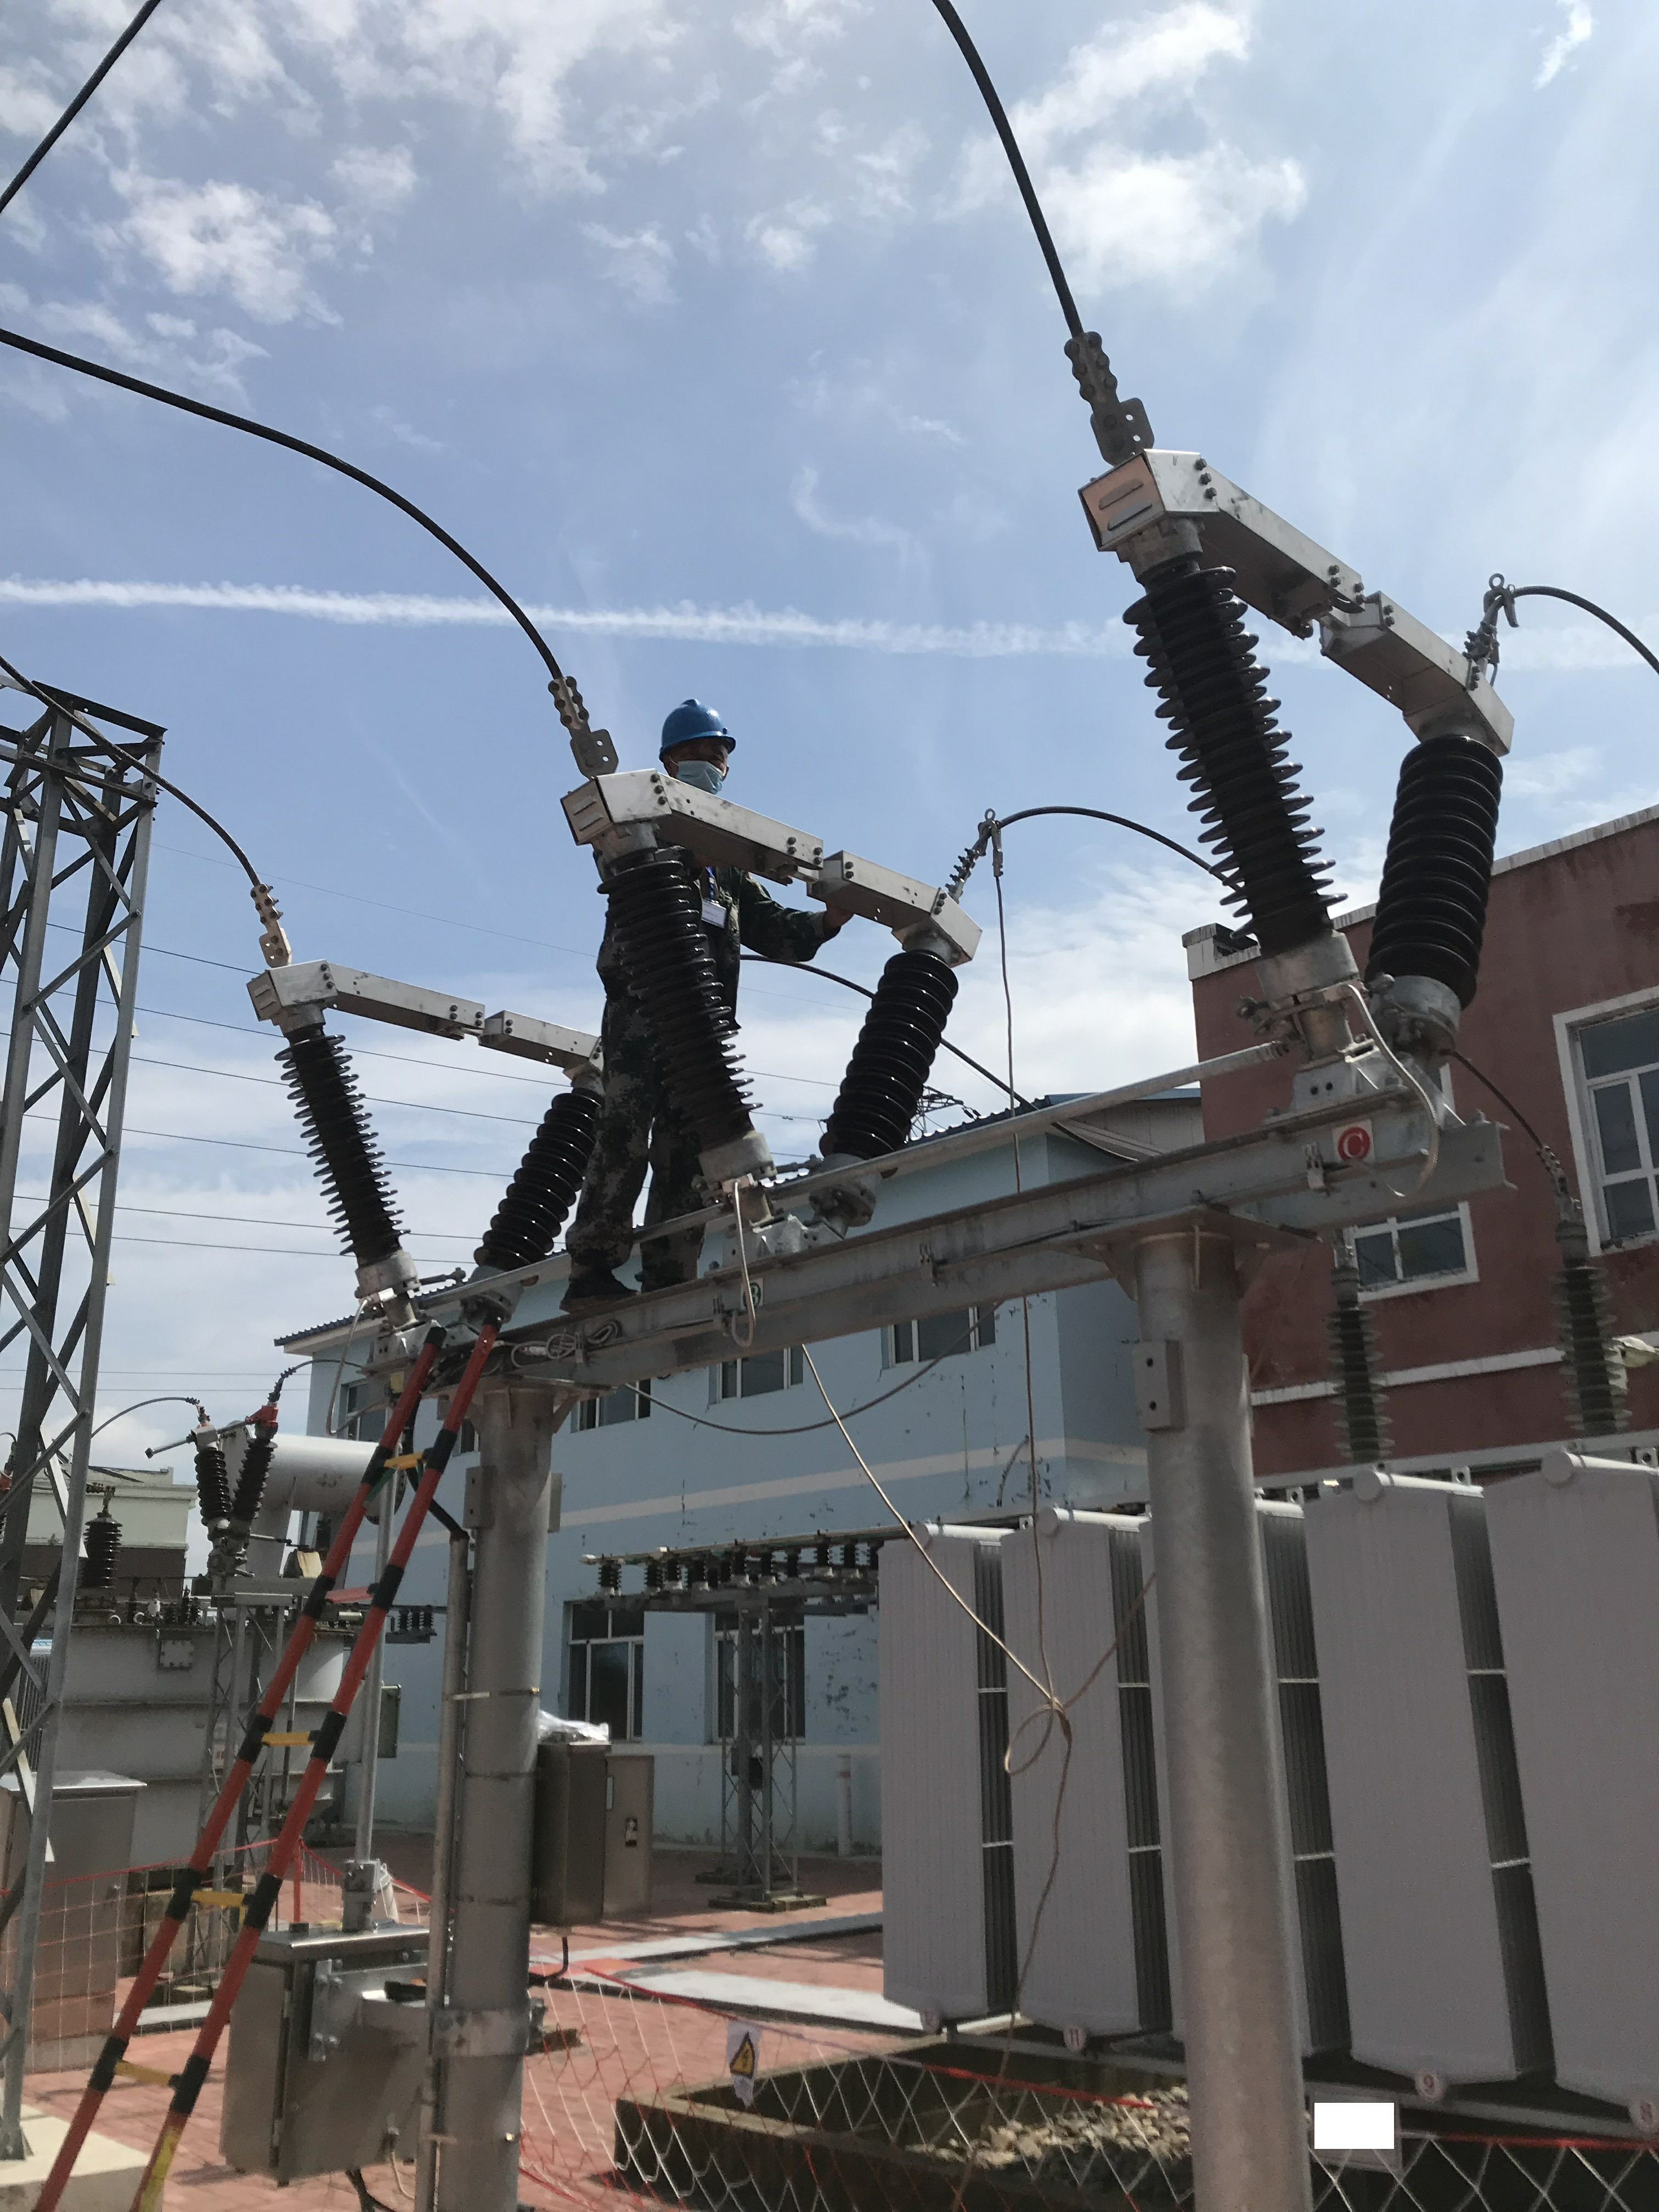hat: (650, 690, 748, 803)
